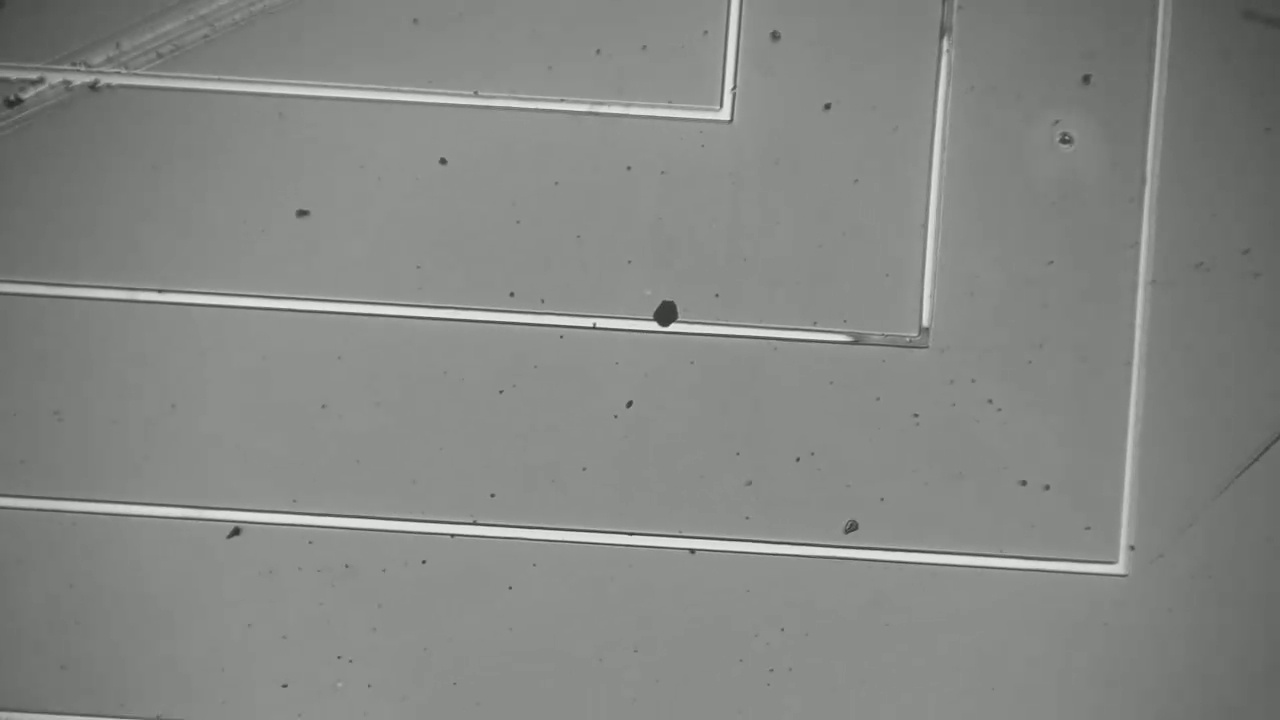edge_bite: (716, 80, 740, 98)
gray_line: (833, 325, 941, 351), (928, 1, 965, 50), (910, 313, 940, 363)
scratch: (0, 1, 268, 139), (1162, 440, 1279, 551)
stains_enbedded: (645, 294, 685, 343)
